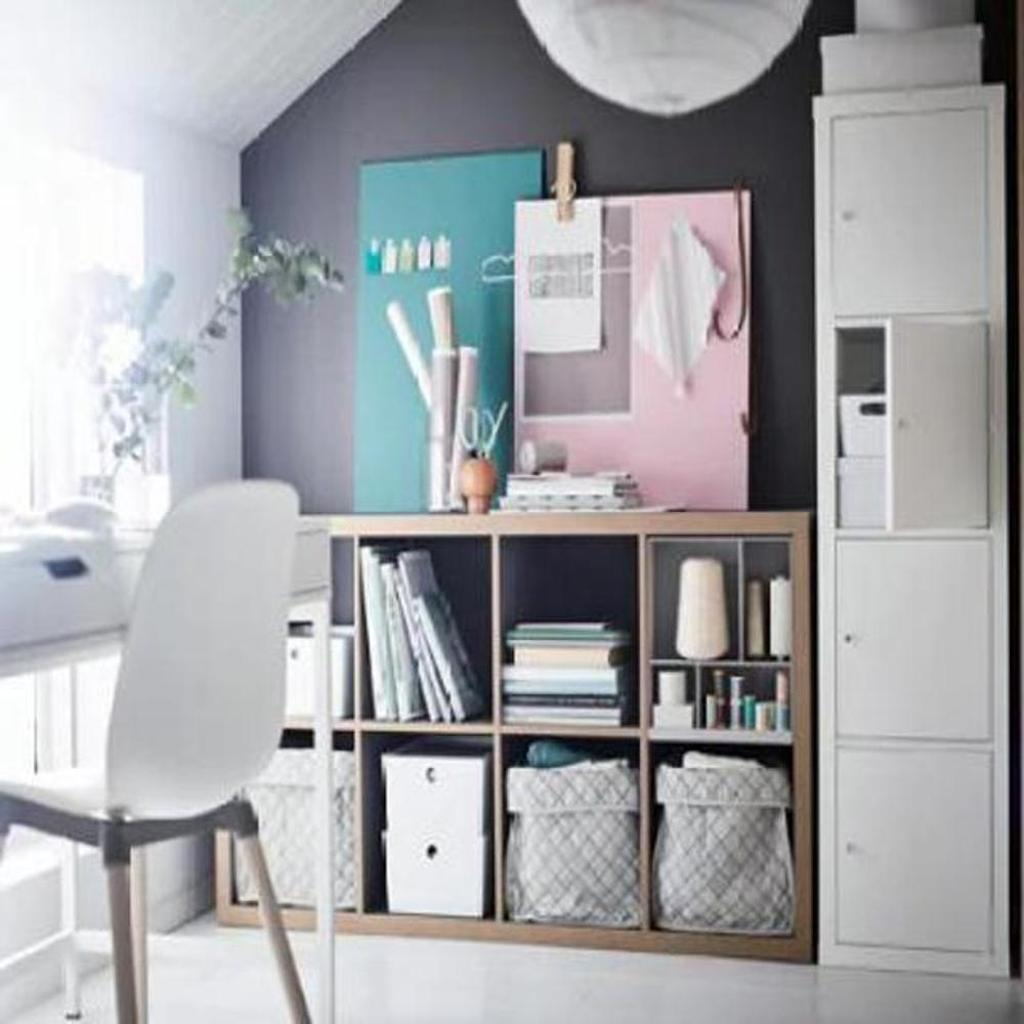lamp: (211, 504, 818, 968), (814, 91, 1015, 985)
